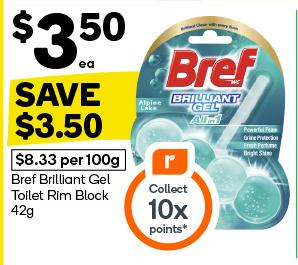description_block: (5, 171, 113, 229)
price_main: (5, 5, 134, 72)
product_image_block: (136, 11, 291, 235)
promo_text_block: (4, 75, 138, 144)
unit_price_block: (8, 148, 130, 173)
